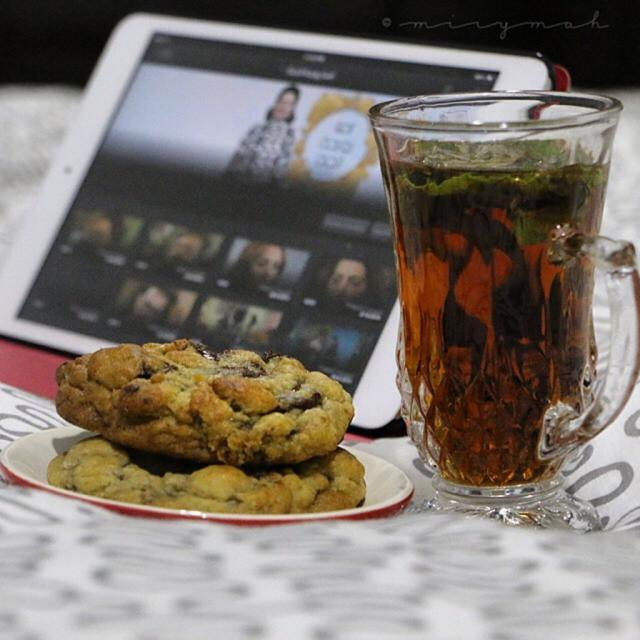Cookie: (57, 333, 366, 479), (44, 436, 366, 510)
